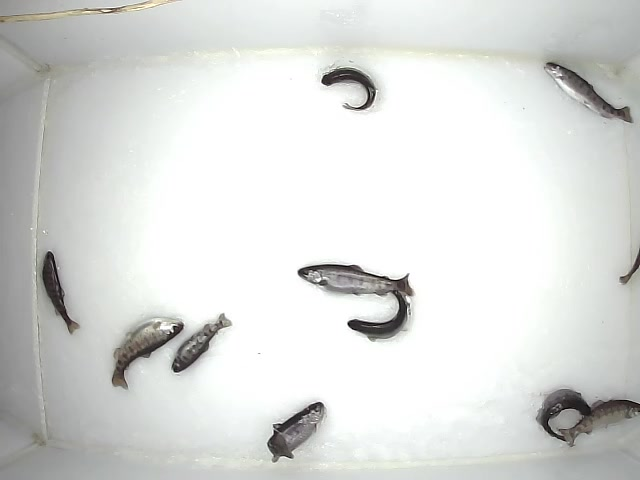fish: (540, 59, 635, 126), (110, 315, 185, 391), (296, 263, 415, 302), (556, 397, 640, 448), (264, 398, 326, 463), (171, 311, 231, 374), (347, 283, 410, 342), (533, 388, 593, 447), (41, 248, 81, 335), (319, 65, 377, 112)
